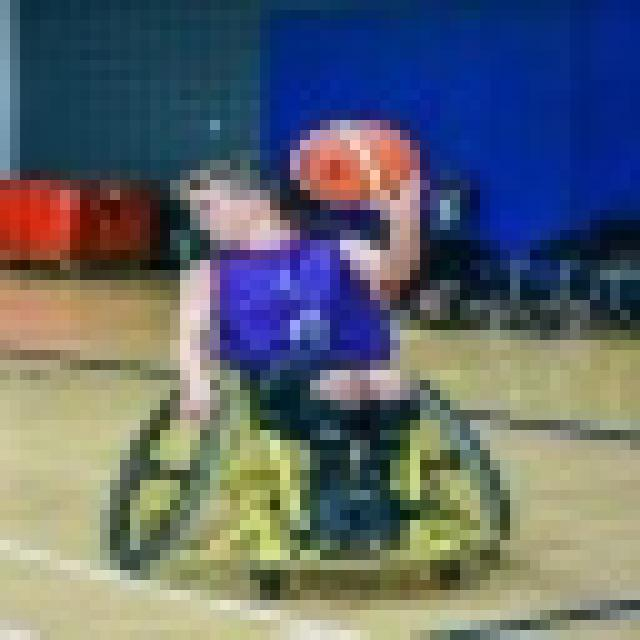wheelchairs: (97, 365, 522, 577)
